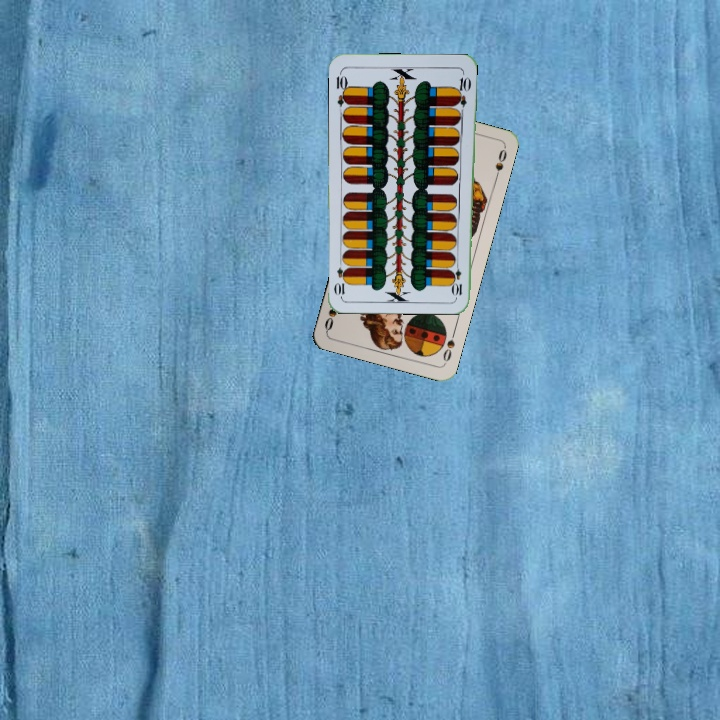E10: (332, 68, 351, 108), (451, 258, 465, 298)
SO: (439, 326, 458, 366)
